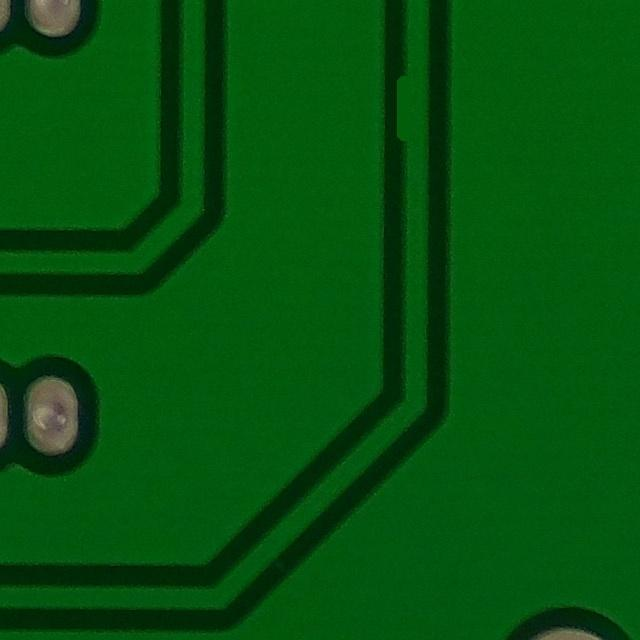spur: (382, 63, 439, 163)
